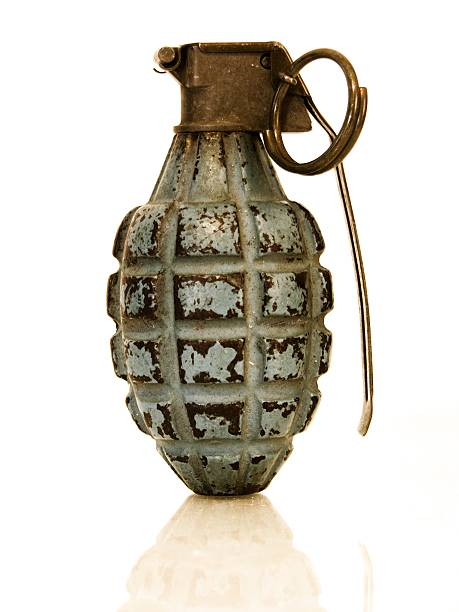e1: (106, 42, 376, 497)
